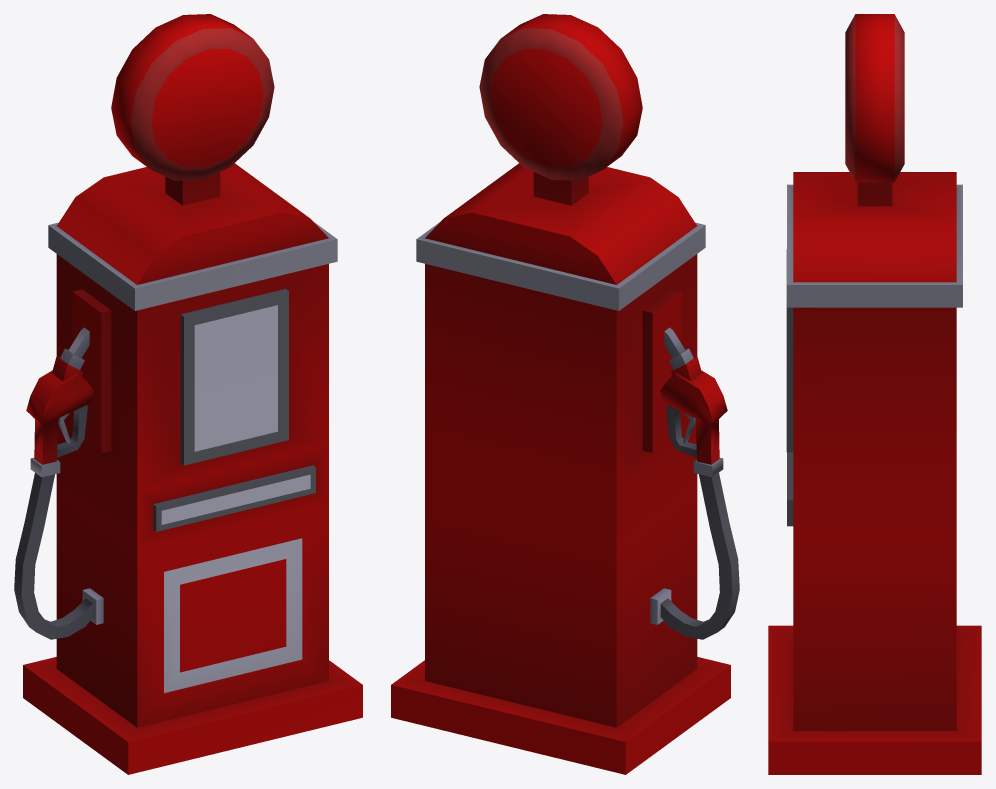
File: GasPump_Regular.fbx
3 views of the same model, side by side, from view 1: azimuth 30°, elevation 25°; view 2: azimuth 150°, elevation 25°; view 3: azimuth 270°, elevation 25° (orthographic).
Parts seen in each view (by area): view 1: GasPump_Regular; view 2: GasPump_Regular; view 3: GasPump_Regular.
Boxes of the visible parts, x1,y1,x2,y2 form: GasPump_Regular: (14, 14, 362, 774); GasPump_Regular: (391, 14, 739, 774); GasPump_Regular: (768, 14, 981, 774).
Bounding box in the file's own units: 77.44 × 174 × 48.3.
